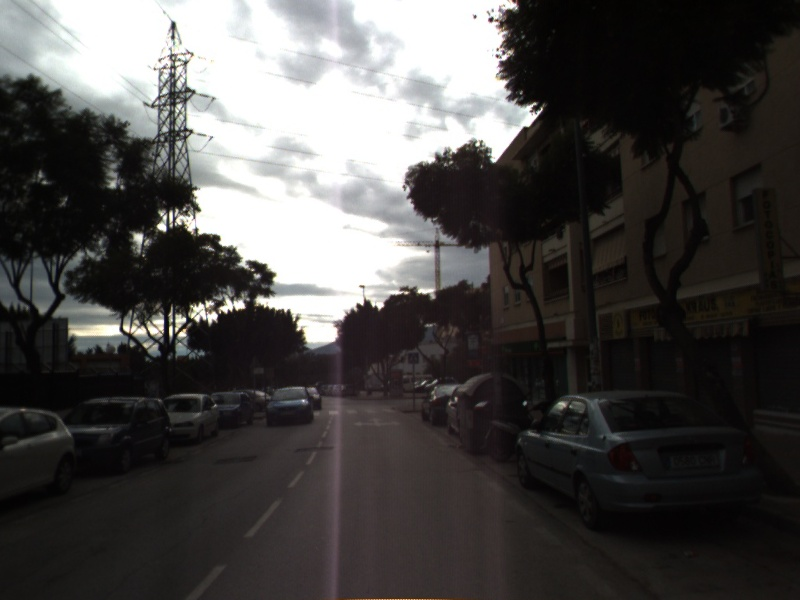STRAIGHT_LEFT_RIGHT: (351, 415, 403, 429)
